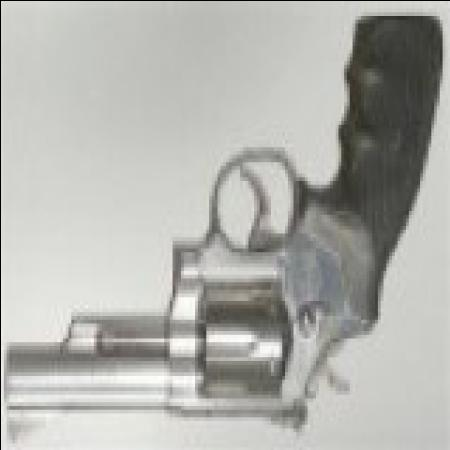Pistol: (3, 19, 439, 447)
